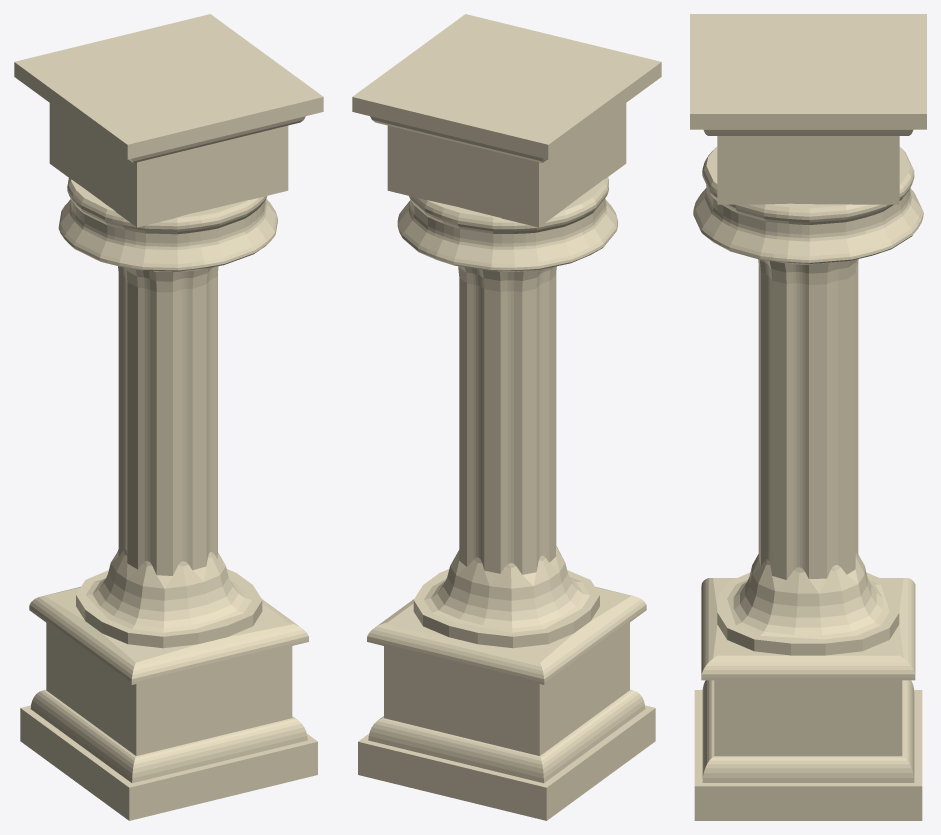
File: Pillar.fbx
3 views of the same model, side by side, from view 1: azimuth 30°, elevation 25°; view 2: azimuth 150°, elevation 25°; view 3: azimuth 270°, elevation 25° (orthographic). The views are drawn at different scales.
Visible parts, largest first — view 1: Plane; view 2: Plane; view 3: Plane.
Boxes of the visible parts, box(x1,y1,x2,y2) form: Plane: box(14, 14, 323, 820); Plane: box(352, 14, 661, 820); Plane: box(690, 14, 926, 820).
Size of the model in its own units: 104 by 343 by 104.
